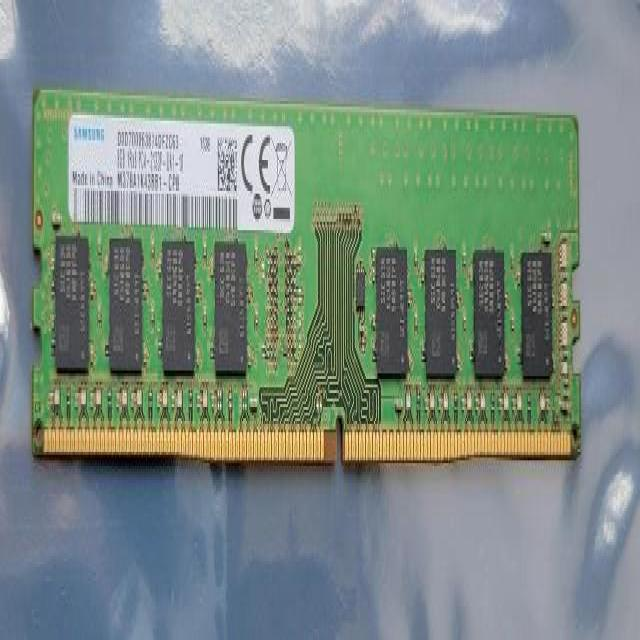RAM: (31, 87, 583, 469)
